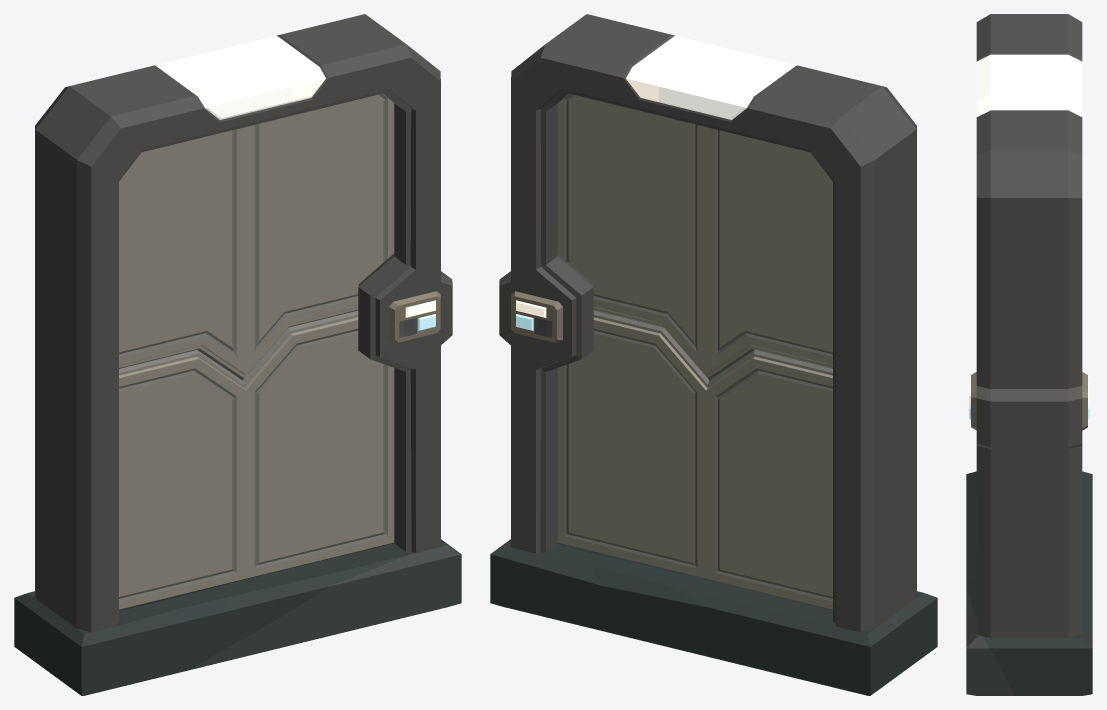
File: entity107068.glb
3 renders of one model, left to right at view 1: azimuth 30°, elevation 25°; view 2: azimuth 150°, elevation 25°; view 3: azimuth 270°, elevation 25°, orthographic. The views are drawn at different scales.
Visible parts, largest first — view 1: node_SM_Bld_Door_Single_02 (3), node_SM_Bld_Door_Single_02_Door_01, node_SM_Bld_Door_Single_02_Door_02; view 2: node_SM_Bld_Door_Single_02 (3), node_SM_Bld_Door_Single_02_Door_01, node_SM_Bld_Door_Single_02_Door_02; view 3: node_SM_Bld_Door_Single_02 (3).
Boxes of the visible parts, x1,y1,x2,y2 form: node_SM_Bld_Door_Single_02 (3): (14, 14, 461, 695); node_SM_Bld_Door_Single_02_Door_01: (119, 310, 394, 609); node_SM_Bld_Door_Single_02_Door_02: (119, 93, 394, 380); node_SM_Bld_Door_Single_02 (3): (490, 14, 937, 695); node_SM_Bld_Door_Single_02_Door_01: (557, 310, 832, 609); node_SM_Bld_Door_Single_02_Door_02: (557, 93, 832, 380); node_SM_Bld_Door_Single_02 (3): (966, 14, 1092, 695).
Size of the model in its own units: 2.14 by 3.01 by 0.6494.
1 material, 1 textured.
